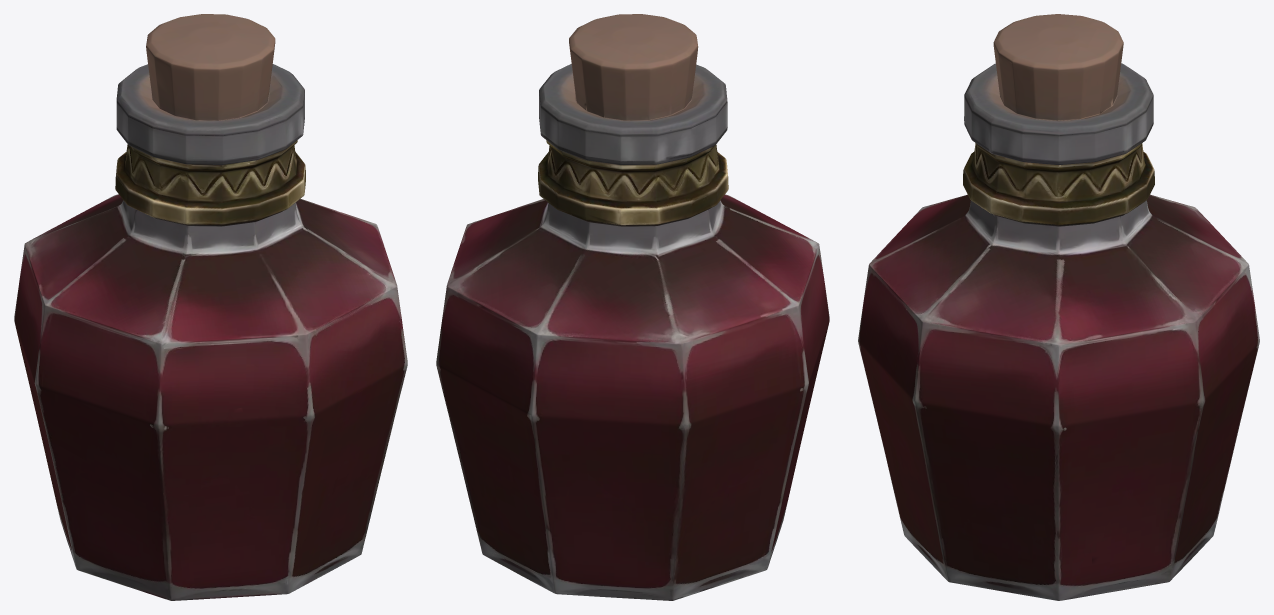
Rendered from StrongHealthPotion.glb.
The picture shows the model from 3 angles, left to right: view 1: azimuth 30°, elevation 25°; view 2: azimuth 150°, elevation 25°; view 3: azimuth 270°, elevation 25°; orthographic projection.
Visible parts, largest first — view 1: node_0; view 2: node_0; view 3: node_0.
Part boxes in pixels (x1=…): node_0: x1=14, y1=14, x2=407, y2=600; node_0: x1=436, y1=14, x2=829, y2=600; node_0: x1=858, y1=14, x2=1259, y2=600.
Bounding box in the file's own units: 0.765 × 1.05 × 0.7628.
Materials: 1 (1 with a texture image).
